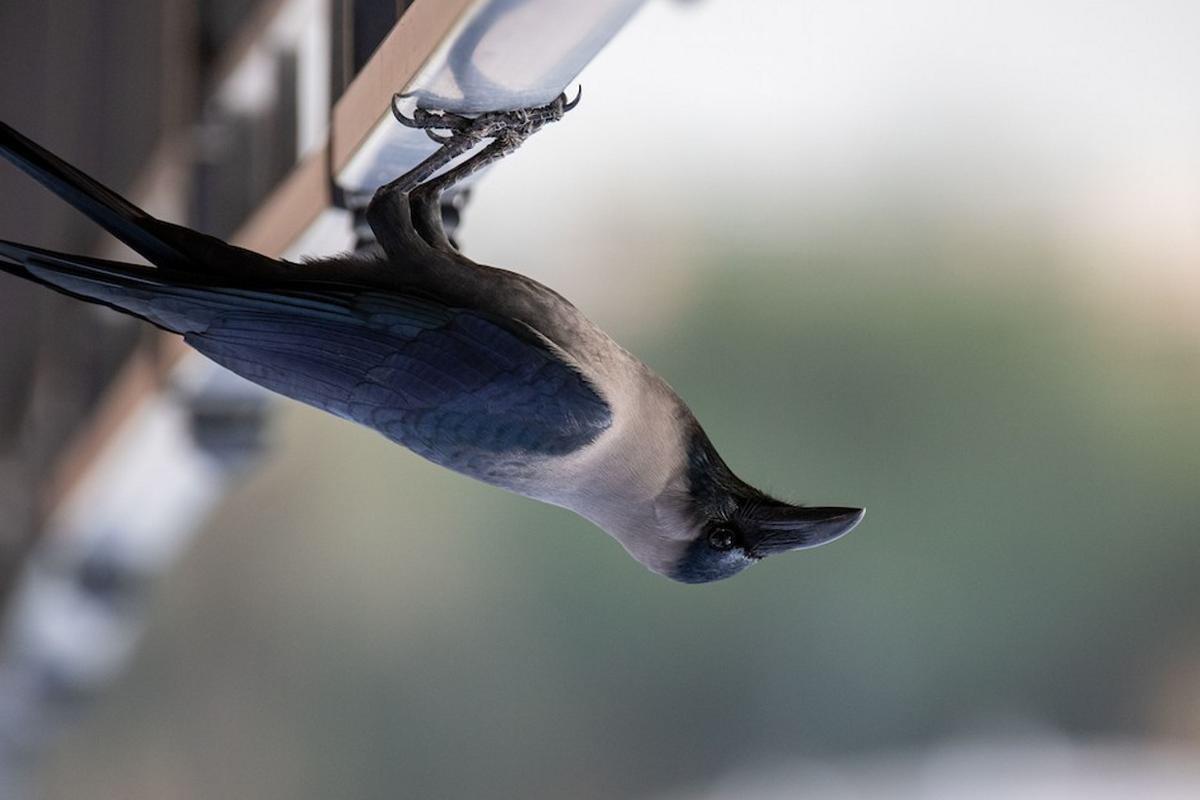crow: (1, 55, 873, 590)
